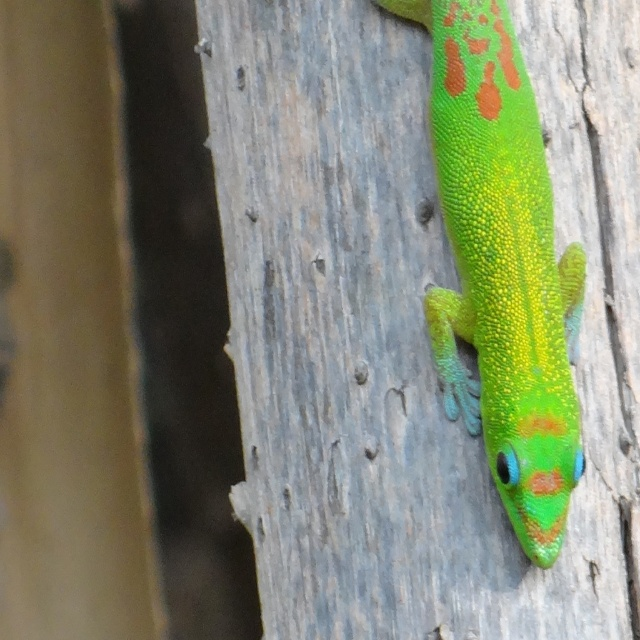Lizard: (418, 30, 597, 597)
